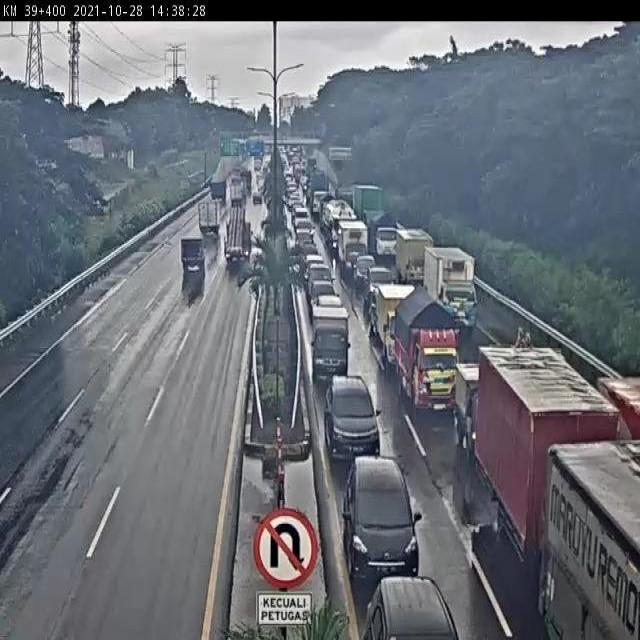big truck: (486, 349, 584, 576), (563, 441, 640, 639), (353, 188, 385, 229), (311, 173, 331, 219)
car: (346, 451, 417, 568), (373, 576, 455, 640), (327, 372, 375, 448), (312, 307, 351, 372), (366, 267, 394, 309), (308, 266, 332, 290), (314, 284, 337, 308), (356, 259, 375, 285), (299, 235, 317, 256), (305, 252, 323, 269), (296, 223, 313, 237), (296, 210, 310, 226), (288, 193, 303, 206), (251, 193, 262, 210), (285, 172, 294, 185), (292, 203, 305, 212), (287, 183, 298, 193), (253, 158, 260, 170), (232, 167, 239, 176)
small truck: (400, 292, 462, 419), (426, 247, 473, 316), (476, 303, 523, 367), (218, 220, 252, 271), (397, 232, 427, 287), (339, 224, 368, 277), (368, 216, 399, 260), (325, 202, 351, 250), (171, 237, 200, 275), (189, 201, 215, 239), (209, 176, 227, 203), (228, 183, 243, 208), (242, 167, 252, 185), (255, 173, 265, 191)
